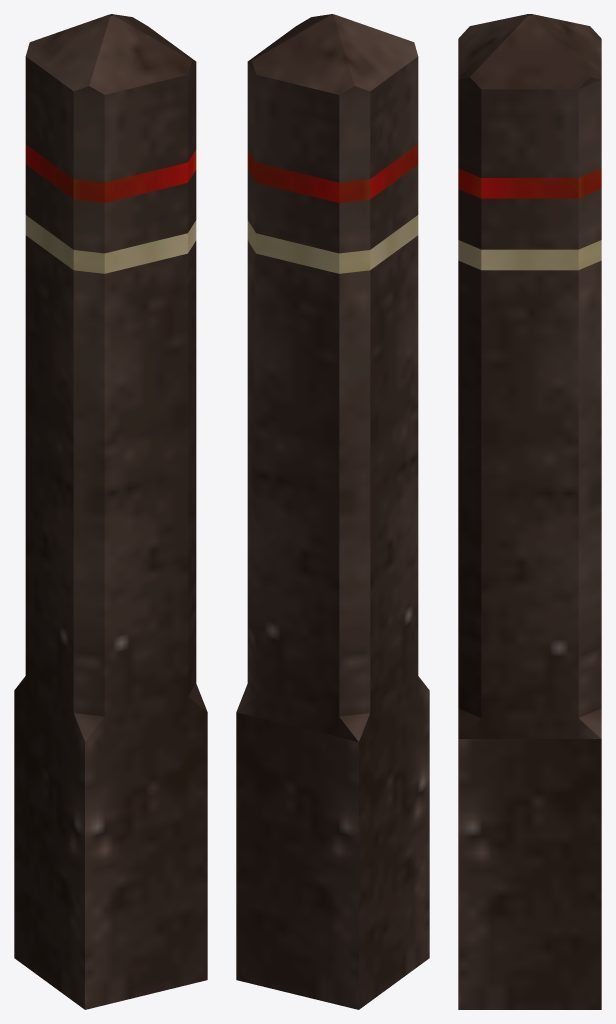
Rendered from Urban_SquareBollardReflectors_Model.fbx.
The picture shows the model from 3 angles, left to right: view 1: azimuth 30°, elevation 25°; view 2: azimuth 150°, elevation 25°; view 3: azimuth 270°, elevation 25°; orthographic projection.
Parts seen in each view (by area): view 1: Urban_SquareBollardReflectors_Mesh; view 2: Urban_SquareBollardReflectors_Mesh; view 3: Urban_SquareBollardReflectors_Mesh.
Part boxes in pixels (x1,y1,x2,y2): Urban_SquareBollardReflectors_Mesh: (14,14,207,1009); Urban_SquareBollardReflectors_Mesh: (236,14,429,1009); Urban_SquareBollardReflectors_Mesh: (458,14,601,1009).
Size of the model in its own units: 0.1818 by 1.35 by 0.1818.
